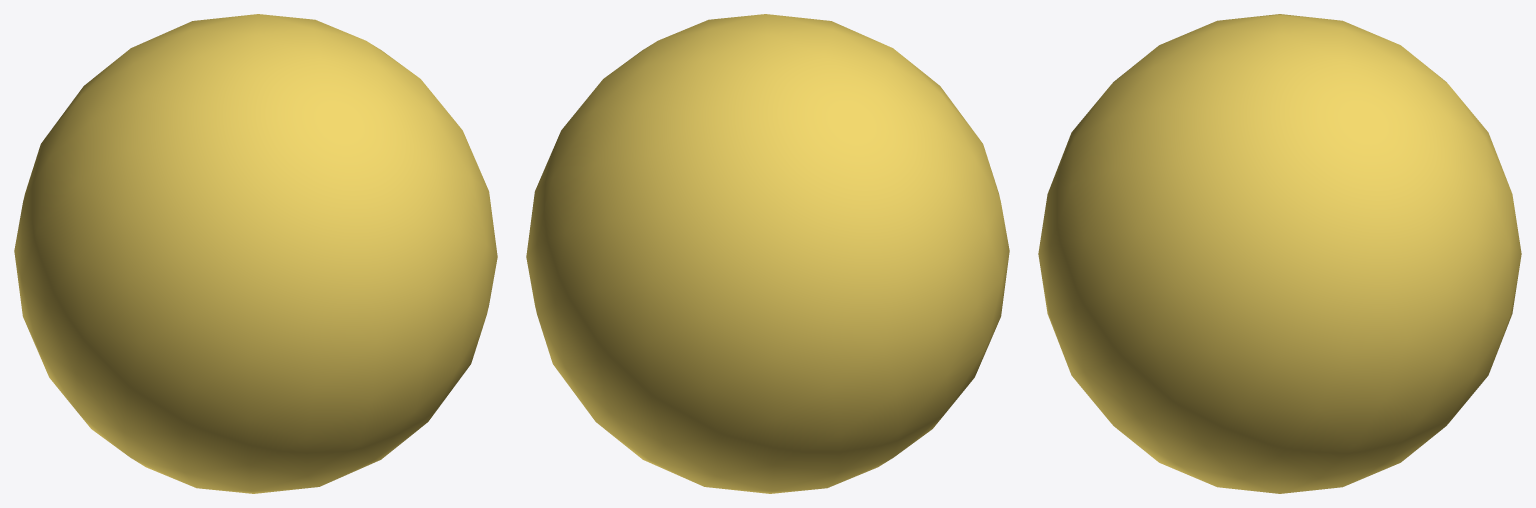
Rendered from skull_erectus.glb.
3 renders of one model, left to right at view 1: azimuth 30°, elevation 25°; view 2: azimuth 150°, elevation 25°; view 3: azimuth 270°, elevation 25°, orthographic.
Bounding box in the file's own units: 2 × 2 × 2.
